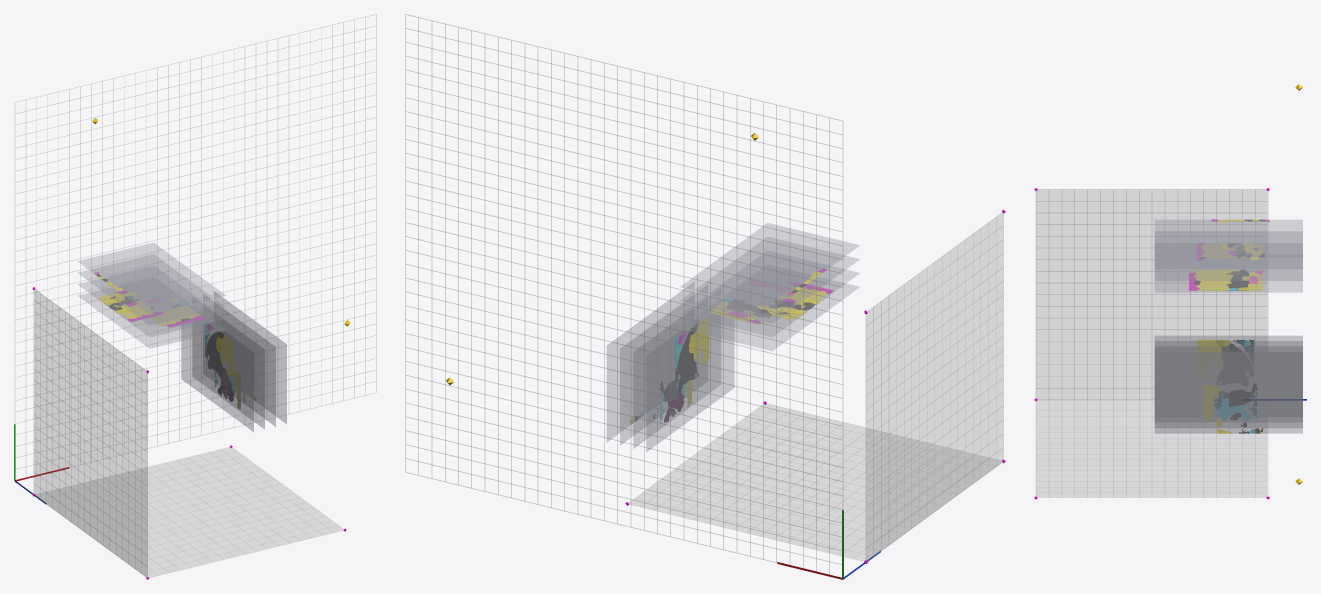
Rendered from shards.obj.
3 renders of one model, left to right at view 1: azimuth 30°, elevation 25°; view 2: azimuth 150°, elevation 25°; view 3: azimuth 270°, elevation 25°, orthographic. The views are drawn at different scales.
Visible parts, largest first — view 1: wall_A, wall_B, grid_floor, panel_B3, panel_B2, panel_A0, panel_A1, panel_A3, panel_B1, panel_A2, panel_B0, Y (+4 smaller); view 2: wall_A, wall_B, grid_floor, panel_B3, panel_A0, panel_B2, panel_A1, panel_A3, panel_B1, panel_A2, panel_B0, grid_wallA (+3 smaller); view 3: wall_A, wall_B, panel_A2, panel_A3, panel_B2, panel_B3, grid_wallA, panel_B1, panel_B0, Y, K, panel_A1 (+4 smaller).
Part boxes in pixels (x1,y1,x2,y2): wall_A: [34, 290, 147, 576]; wall_B: [36, 447, 343, 577]; grid_floor: [15, 14, 376, 469]; panel_B3: [77, 243, 225, 313]; panel_B2: [78, 254, 225, 325]; panel_A0: [181, 322, 253, 431]; panel_A1: [192, 311, 264, 429]; panel_A3: [214, 291, 286, 423]; panel_B1: [78, 279, 225, 336]; panel_A2: [203, 299, 275, 426]; panel_B0: [78, 290, 225, 348]; Y: [99, 276, 255, 408]; wall_A: [866, 213, 1003, 560]; wall_B: [629, 404, 1001, 560]; grid_floor: [405, 14, 842, 574]; panel_B3: [680, 223, 859, 309]; panel_A0: [646, 319, 734, 451]; panel_B2: [680, 237, 859, 323]; panel_A1: [633, 305, 720, 448]; panel_A3: [607, 282, 694, 441]; panel_B1: [680, 266, 859, 336]; panel_A2: [620, 292, 707, 445]; panel_B0: [680, 280, 859, 350]; grid_wallA: [866, 212, 1003, 560]; wall_A: [1036, 190, 1267, 399]; wall_B: [1036, 400, 1267, 497]; panel_A2: [1155, 346, 1302, 427]; panel_A3: [1155, 352, 1302, 433]; panel_B2: [1155, 231, 1302, 268]; panel_B3: [1155, 220, 1302, 257]; grid_wallA: [1036, 189, 1267, 399]; panel_B1: [1155, 257, 1302, 280]; panel_B0: [1155, 269, 1302, 292]; Y: [1194, 219, 1264, 433]; K: [1191, 219, 1265, 433]; panel_A1: [1155, 341, 1302, 351].
Size of the model in its own units: 3318 by 3318 by 2115.
